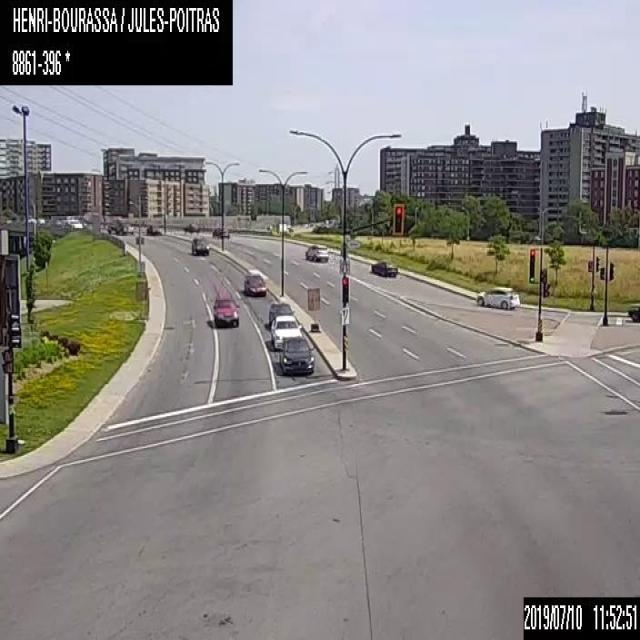vehicle: (278, 336, 314, 376), (270, 314, 302, 349), (475, 284, 518, 309), (212, 294, 238, 326), (268, 301, 294, 328), (243, 272, 265, 296), (107, 216, 133, 235), (370, 259, 396, 276), (305, 243, 327, 261), (192, 236, 209, 254), (211, 225, 228, 238), (627, 304, 639, 321), (182, 222, 199, 234), (146, 222, 161, 235), (65, 218, 82, 228)
